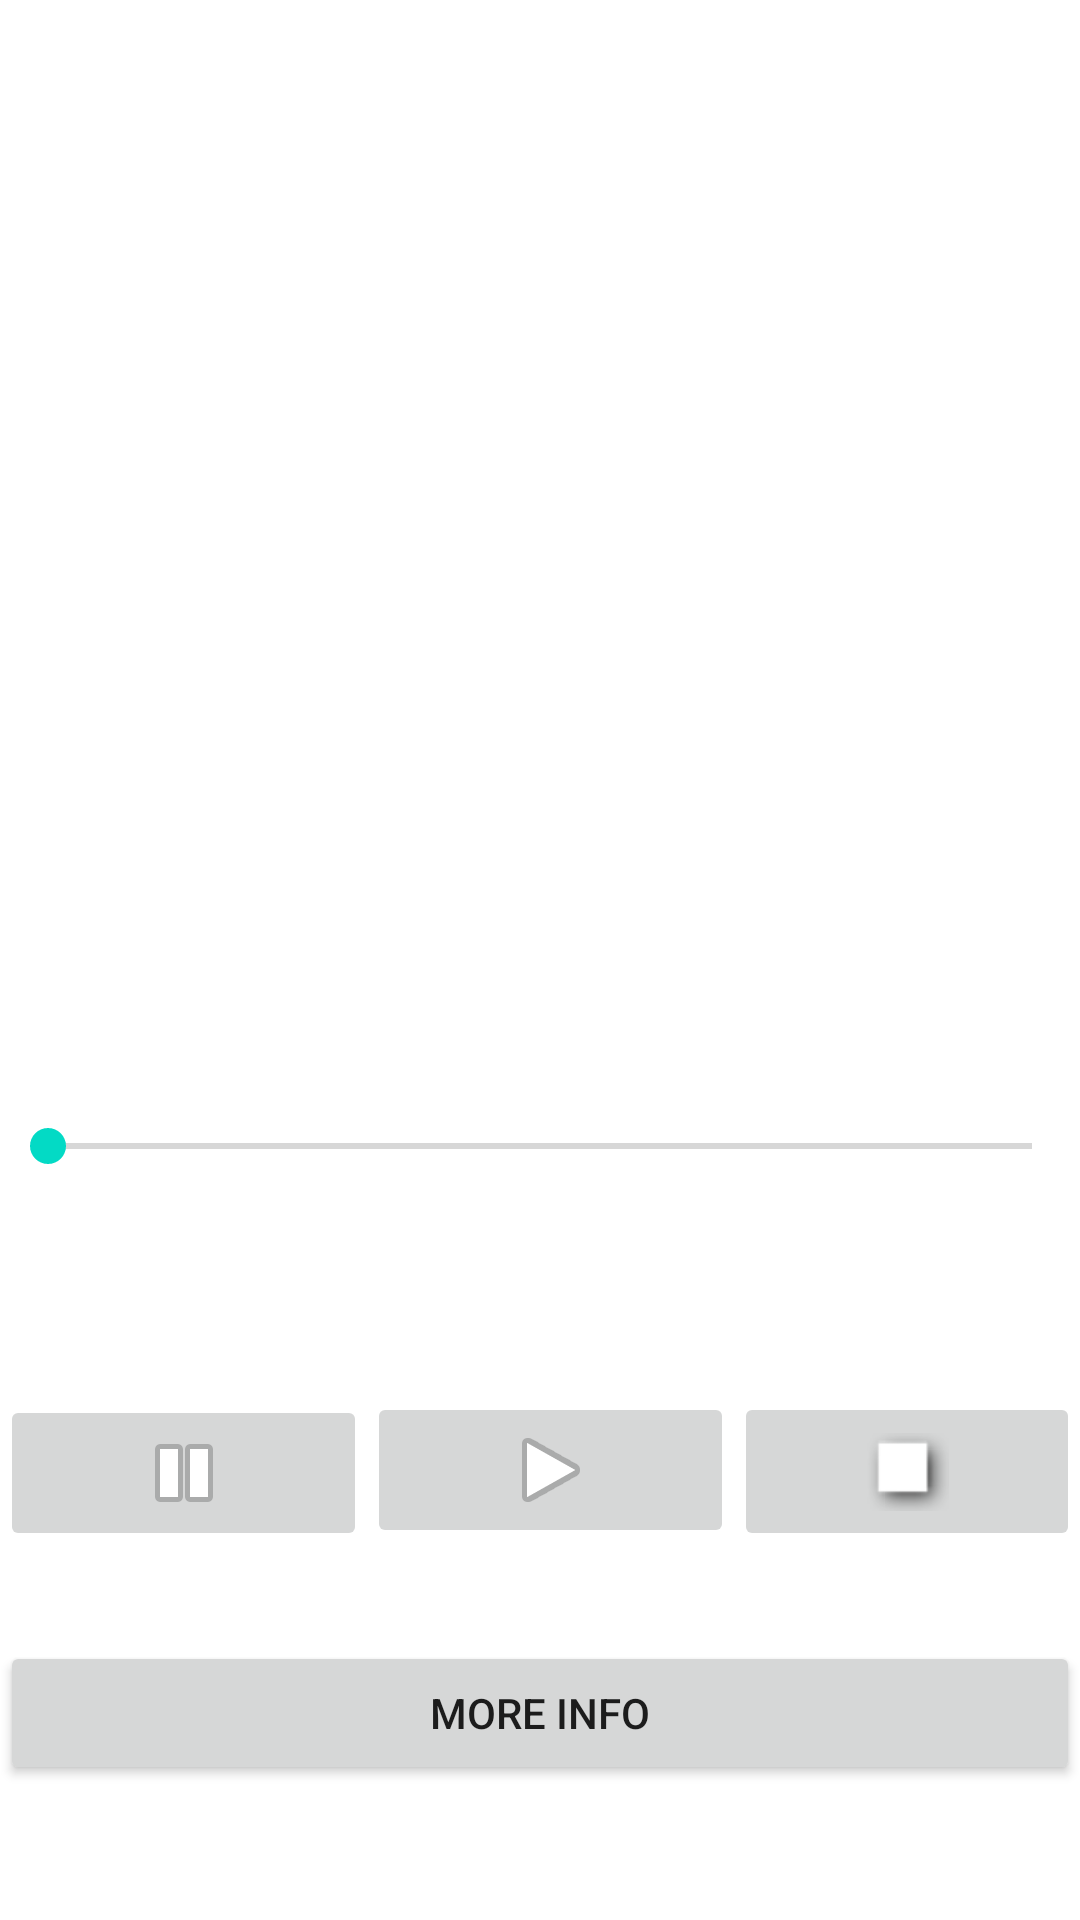

Screen size 1080px×1920px. Icon name, then its center in pixels as (x=x, y=y):
pause: (x=183, y=1473)
play: (x=550, y=1470)
